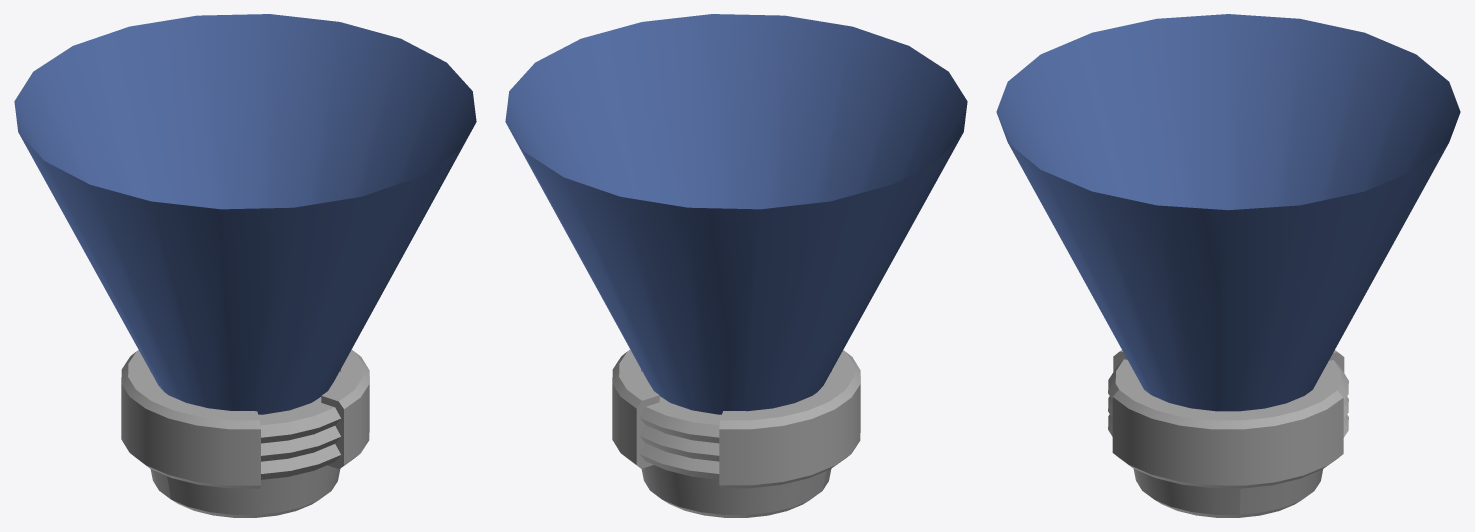
Rendered from env_warehouse_groundspotlight_light.fbx.
The picture shows the model from 3 angles, left to right: view 1: azimuth 30°, elevation 25°; view 2: azimuth 150°, elevation 25°; view 3: azimuth 270°, elevation 25°; orthographic projection.
Visible parts, largest first — view 1: env_warehouse_groundspotlight_light; view 2: env_warehouse_groundspotlight_light; view 3: env_warehouse_groundspotlight_light.
Boxes of the visible parts, <box> form: env_warehouse_groundspotlight_light: <box>14,14,476,517</box>; env_warehouse_groundspotlight_light: <box>505,14,967,517</box>; env_warehouse_groundspotlight_light: <box>996,14,1460,517</box>.
Bounding box in the file's own units: 26.16 × 23.04 × 26.16.
